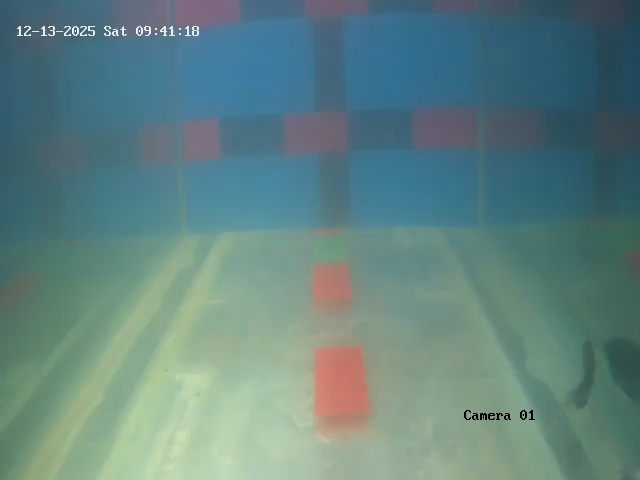fish: (564, 334, 604, 410)
